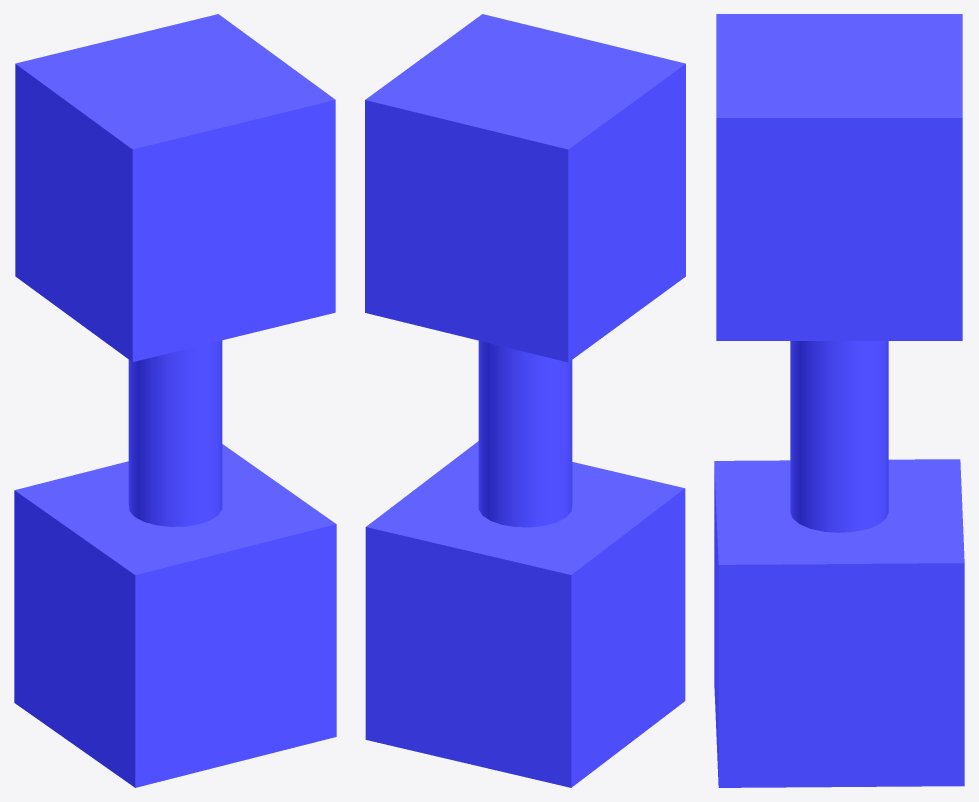
Rendered from robot_dumbbell_blue.dae.
The picture shows the model from 3 angles, left to right: view 1: azimuth 30°, elevation 25°; view 2: azimuth 150°, elevation 25°; view 3: azimuth 270°, elevation 25°; orthographic projection. The views are drawn at different scales.
Parts seen in each view (by area): view 1: dumbell; view 2: dumbell; view 3: dumbell.
Boxes of the visible parts, <box> form: dumbell: <box>14,14,336,787</box>; dumbell: <box>365,14,685,787</box>; dumbell: <box>714,14,964,787</box>.
Size of the model in its own units: 5.09 by 15 by 5.09.
